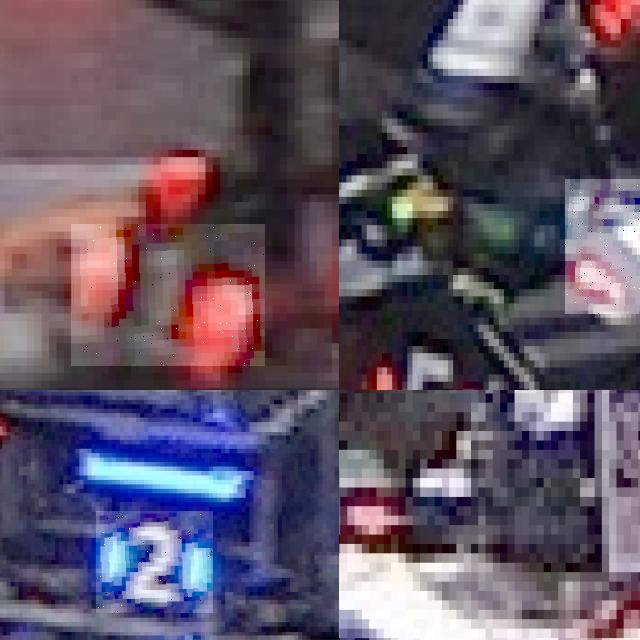B2: (96, 511, 213, 613)
R1: (71, 224, 265, 366)
R5: (565, 179, 640, 314), (354, 324, 481, 390)
